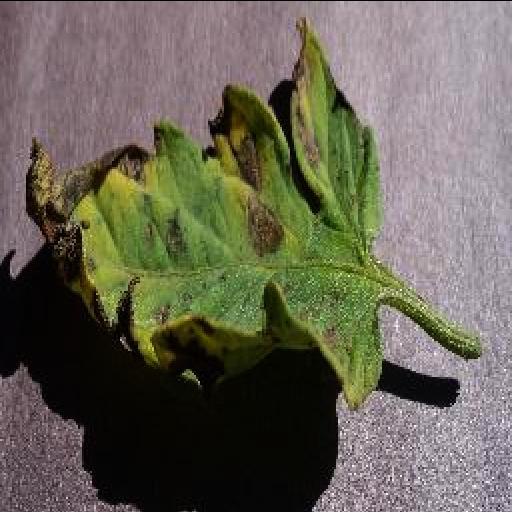disease_tomato: (26, 22, 386, 400)
